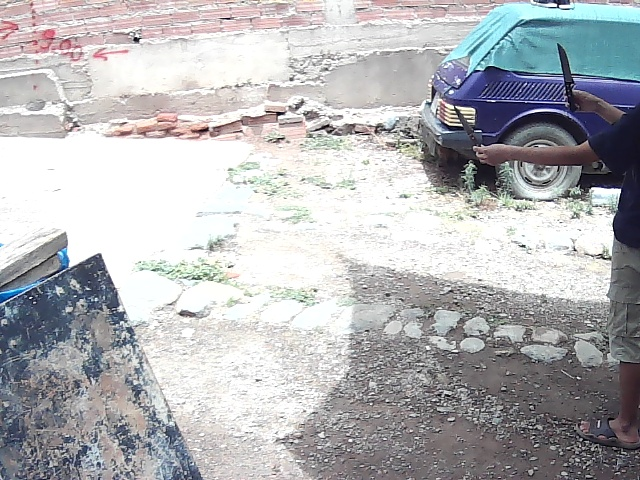cuchillo: (553, 36, 582, 118)
